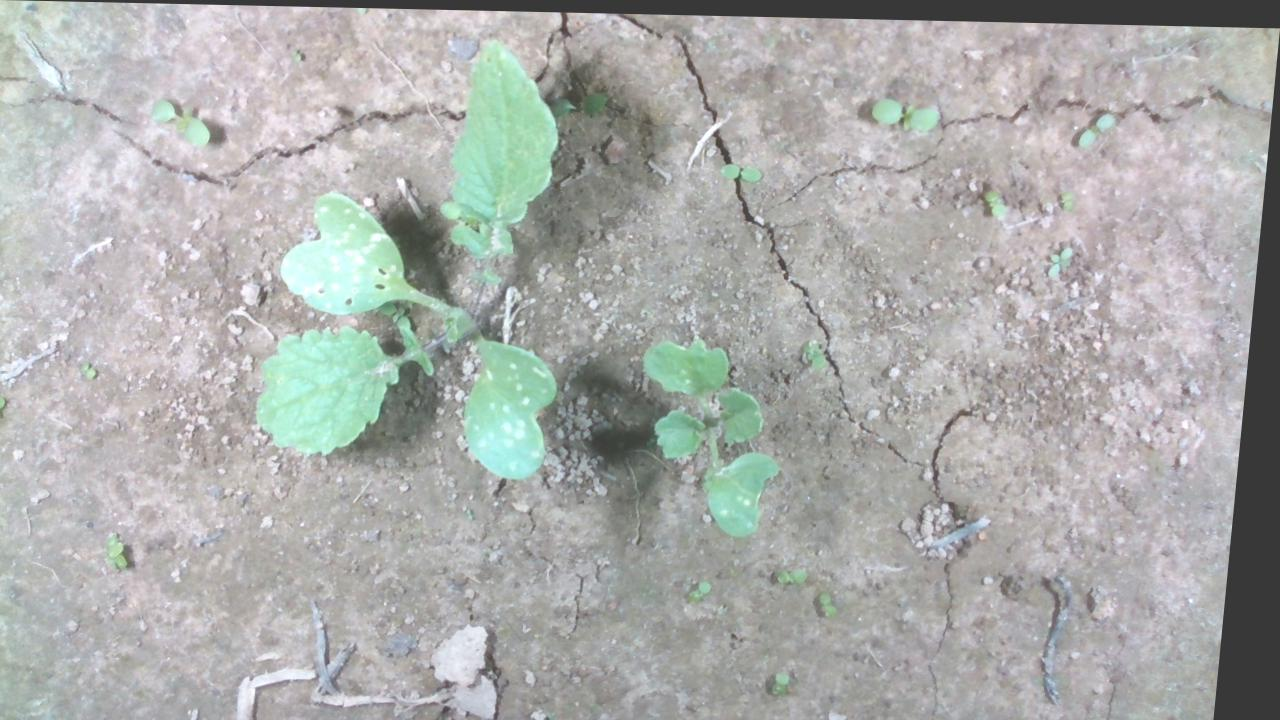weed: (871, 79, 962, 129), (142, 99, 217, 152), (100, 529, 148, 575), (718, 153, 784, 185), (1045, 233, 1077, 290), (1073, 95, 1117, 136), (802, 332, 839, 376), (824, 584, 867, 616), (775, 666, 814, 695), (781, 555, 810, 592), (688, 571, 730, 595), (87, 354, 114, 382)
